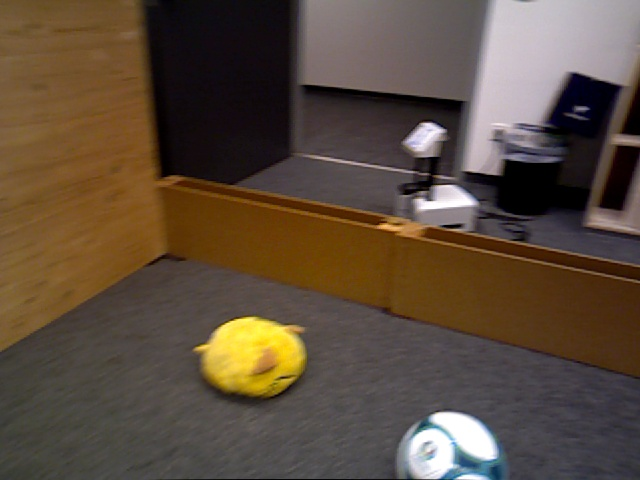grasp: (201, 315, 306, 401)
kick: (396, 411, 509, 480)
